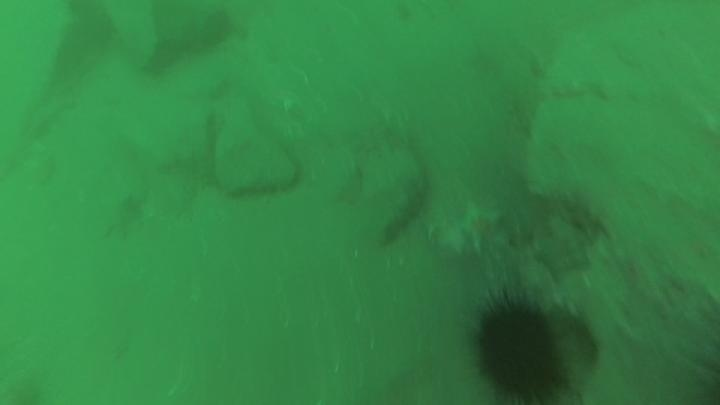echinus: (467, 290, 570, 404)
holothurian: (377, 168, 431, 248)
starfish: (430, 197, 508, 260)
